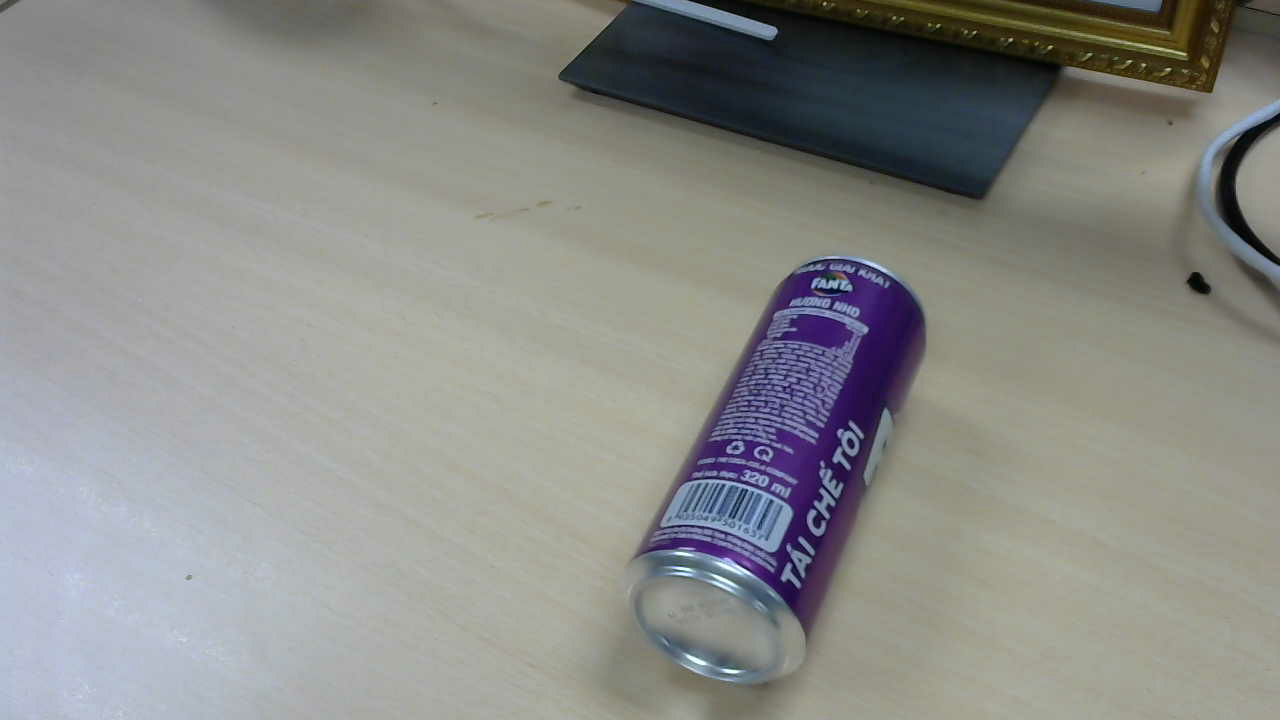Fanta: (630, 262, 935, 688)
